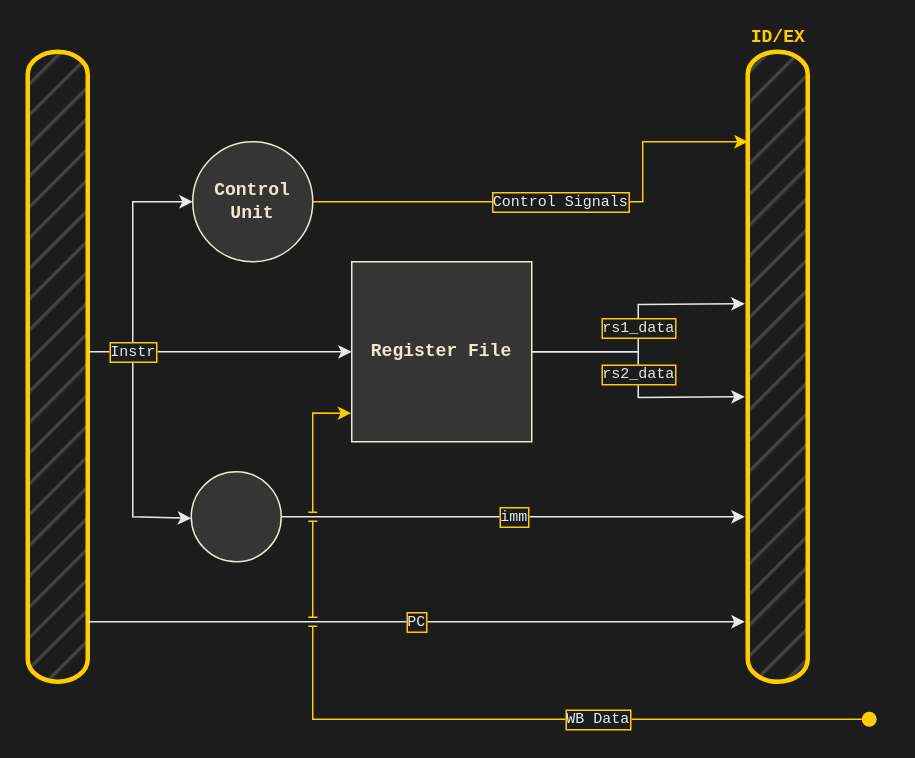
This 915x758 diagram has some shape labels left out. Each missing label, with the centre of its shape:
IF/ID: the point at 57,366
ImmGen: the point at 235,516
